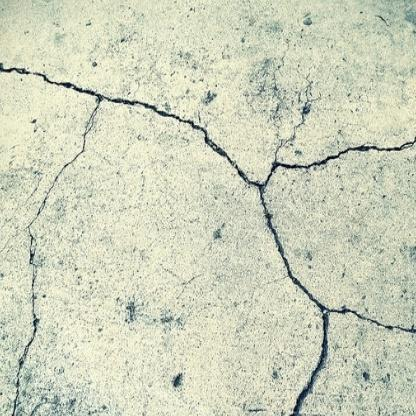Cracks: (0, 50, 416, 416), (0, 242, 12, 271)
